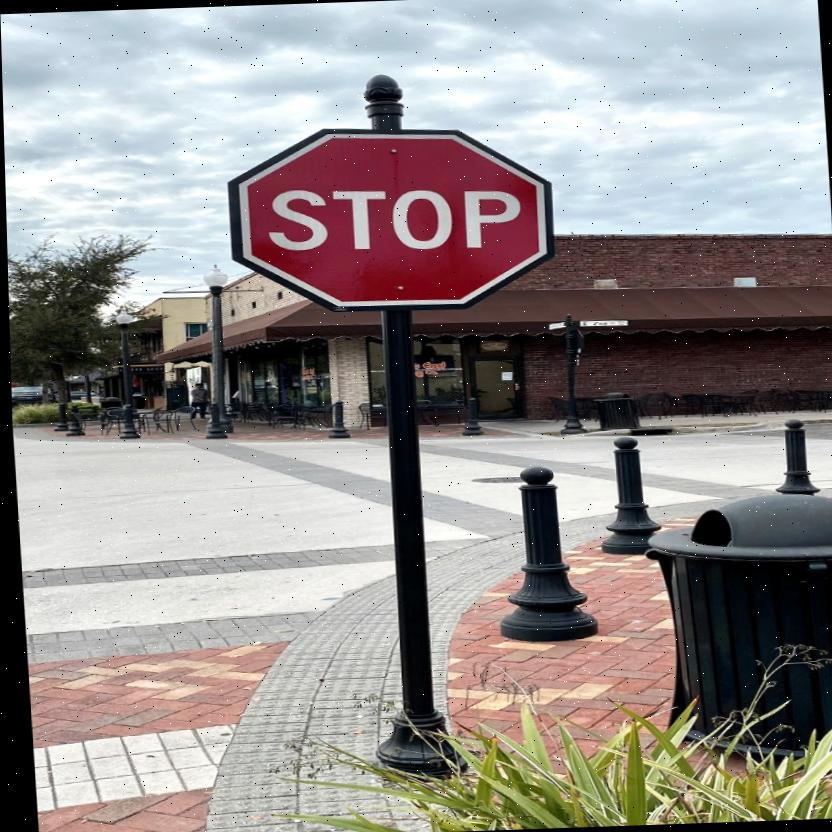Pole: (367, 308, 446, 778)
Sign: (240, 131, 542, 308)
